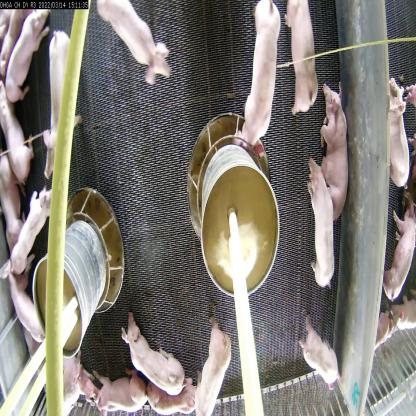Pig: (291, 143, 345, 297), (90, 0, 178, 85), (239, 2, 281, 158), (118, 310, 191, 391), (44, 24, 82, 175), (184, 318, 241, 415), (279, 0, 324, 119), (1, 186, 64, 262), (3, 255, 48, 360), (4, 0, 46, 108), (40, 327, 89, 416), (309, 73, 340, 211), (301, 317, 344, 392), (144, 365, 208, 415), (85, 370, 156, 414)
